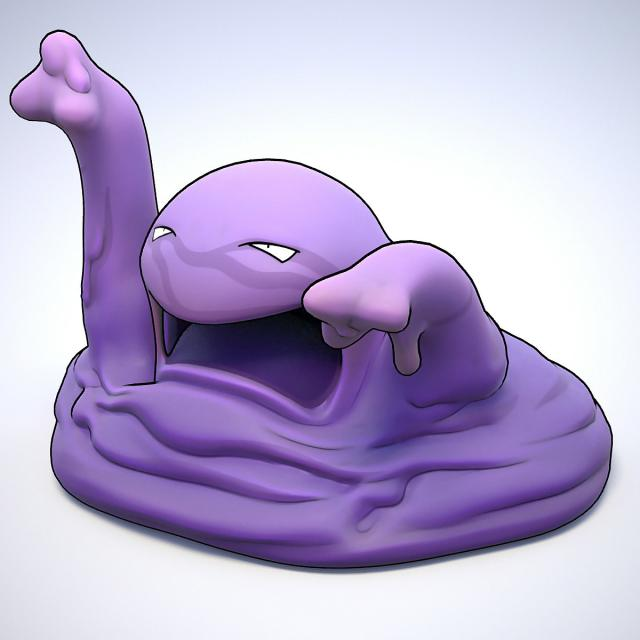Muk: (120, 158, 483, 502)
